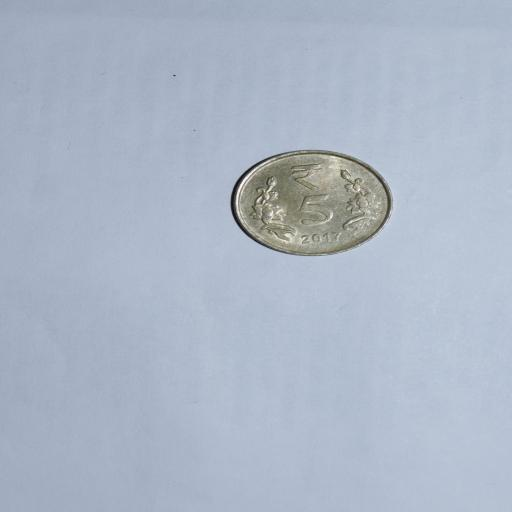rupee5: (230, 150, 392, 257)
